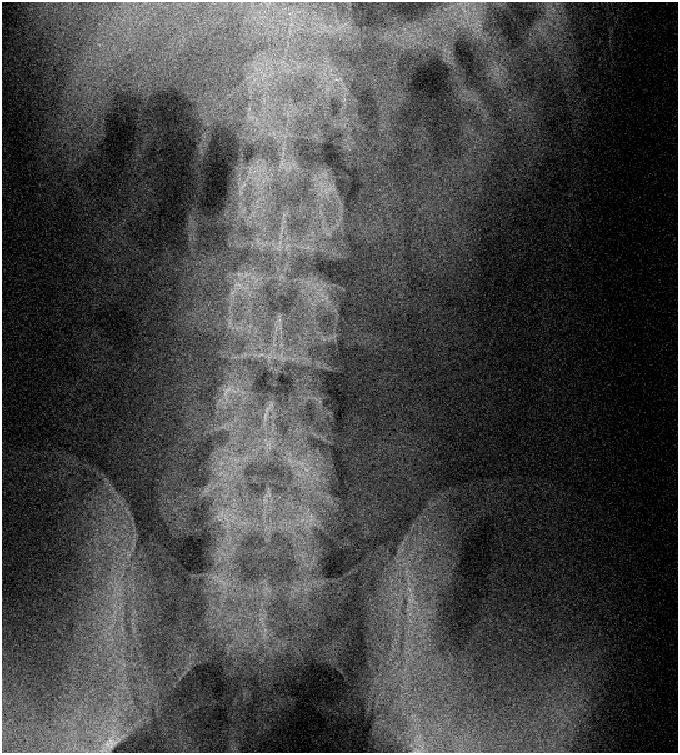lumbar scoliosis: (199, 32, 346, 567)
